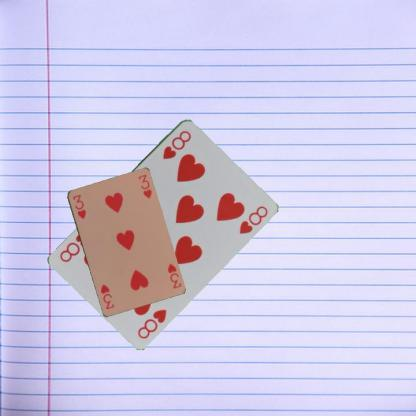3h: (165, 260, 182, 290), (70, 192, 87, 220)
8h: (159, 127, 193, 161), (135, 306, 168, 340)
